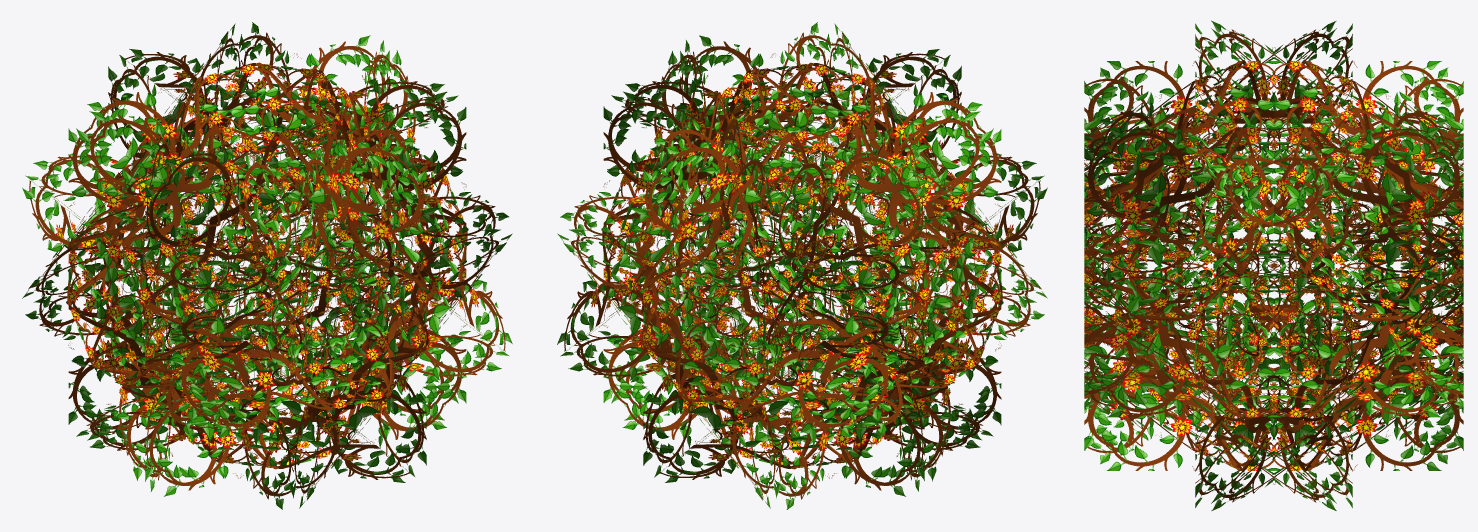
File: 30UniformGreatRhombicuboctahedron.gltf
The picture shows the model from 3 angles, left to right: view 1: azimuth 30°, elevation 25°; view 2: azimuth 150°, elevation 25°; view 3: azimuth 270°, elevation 25°; orthographic projection. The views are drawn at different scales.
Parts seen in each view (by area): view 1: 3UniformGreatRhombicuboctahedron; view 2: 3UniformGreatRhombicuboctahedron; view 3: 3UniformGreatRhombicuboctahedron.
Part boxes in pixels (x1,y1,x2,y2): 3UniformGreatRhombicuboctahedron: [22, 22, 512, 509]; 3UniformGreatRhombicuboctahedron: [557, 22, 1047, 509]; 3UniformGreatRhombicuboctahedron: [1084, 20, 1463, 510].
Bounding box in the file's own units: 1 × 1 × 1.
Materials: 1 (1 with a texture image).
